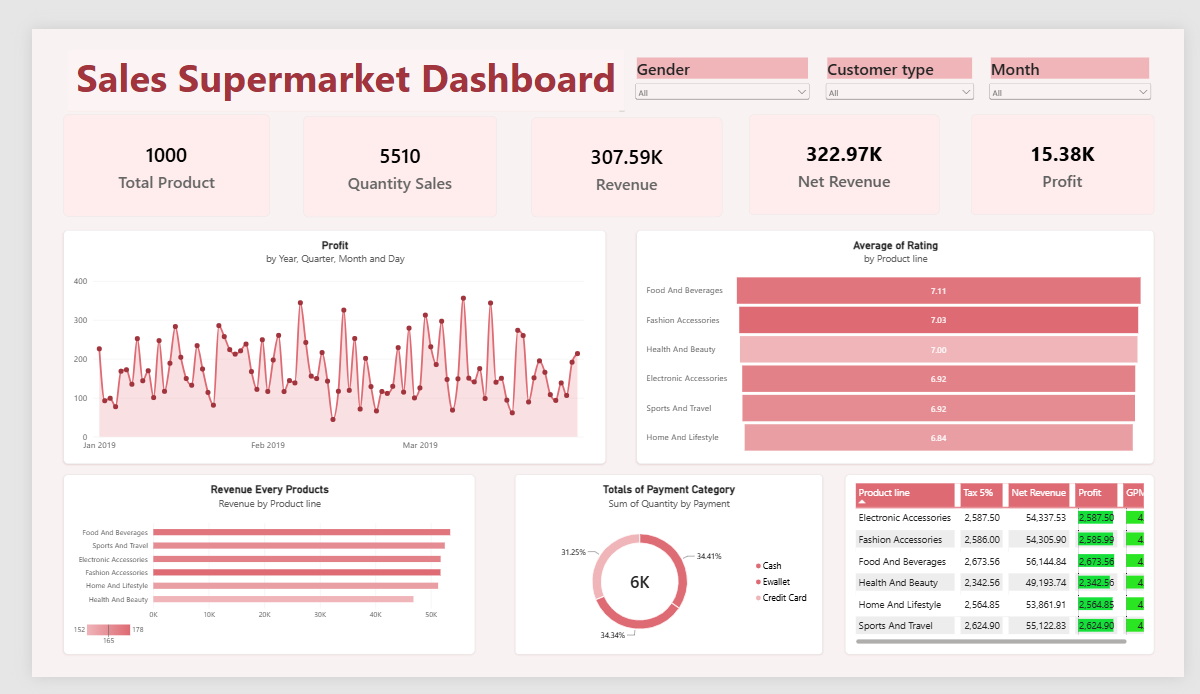

This screenshot's page, from the dashboard's own definition file:
{"tool":"powerbi","page":{"name":"Page 1","canvas":[1920,1080],"ordinal":0},"visuals":[{"type":"tableEx","fields":{"Values":["supermarket_sales.Product line","supermarket_sales.Tax 5%","supermarket_sales.Net Revenue","supermarket_sales.Profit","supermarket_sales.GPM %"]},"box":[1355,742.5,515,300],"z":0,"group":"g1"},{"type":"donutChart","title":"Totals of Payment Category","fields":{"Category":["supermarket_sales.Payment"],"Y":["Sum(supermarket_sales.Quantity)"]},"box":[805,742.5,512.5,300],"z":1000,"group":"g1"},{"type":"barChart","title":"Revenue Every Products","fields":{"Category":["supermarket_sales.Product line"],"Y":["supermarket_sales.Revenue"]},"box":[53,742.5,686,300],"z":2000,"group":"g1"},{"type":"areaChart","fields":{"Category":["supermarket_sales.Date.Variation.Date Hierarchy.Year","supermarket_sales.Date.Variation.Date Hierarchy.Quarter","supermarket_sales.Date.Variation.Date Hierarchy.Month","supermarket_sales.Date.Variation.Date Hierarchy.Day"],"Y":["supermarket_sales.Profit"]},"box":[52.5,335,904,390],"z":3000,"group":"g1"},{"type":"funnel","fields":{"Category":["supermarket_sales.Product line"],"Y":["Avg(supermarket_sales.Rating)"]},"box":[1007.5,335,862.5,390],"z":4000,"group":"g1"},{"type":"card","title":"Quantity Sales","fields":{"Values":["Sum(supermarket_sales.Quantity)"]},"box":[453,144.5,321.7,168.3],"z":6000,"group":"g1"},{"type":"card","fields":{"Values":["supermarket_sales.Revenue"]},"box":[833,146.5,318,166],"z":7000,"group":"g1"},{"type":"card","fields":{"Values":["supermarket_sales.Net Revenue"]},"box":[1195,142.5,317.5,167.5],"z":8000,"group":"g1"},{"type":"card","fields":{"Values":["supermarket_sales.Profit"]},"box":[1565,142.5,305,167.5],"z":9000,"group":"g1"},{"type":"slicer","fields":{"Values":["supermarket_sales.Gender"]},"box":[998.7,46.3,301.2,78.8],"z":10000,"group":"g1"},{"type":"slicer","fields":{"Values":["supermarket_sales.Customer type"]},"box":[1317.5,46.3,257.5,70],"z":11000,"group":"g1"},{"type":"slicer","fields":{"Values":["supermarket_sales.Date.Variation.Date Hierarchy.Month"]},"box":[1590,46.3,280,70],"z":12000,"group":"g1"},{"type":"textbox","title":"Sales Supermarket Dashboard","box":[58.7,34.7,927.5,102.5],"z":14000,"group":"g1"},{"type":"card","fields":{"Values":["CountNonNull(supermarket_sales.Product line)"]},"box":[53,142.5,344,170],"z":14001,"group":"g1"},{"type":"group","id":"g1","title":"Group 1","box":[52.5,34.7,1817.5,1007.8],"z":14002}]}

Visuals, with their boxes in screenshot pixels (x1, y1, x2, y2), scaled from the page's 1920x1080 canvas onto the 1200x694 screenshot:
tableEx - supermarket_sales.Product line x supermarket_sales.Tax 5%: {"x1": 847, "y1": 477, "x2": 1169, "y2": 670}
"Totals of Payment Category" donutChart: {"x1": 503, "y1": 477, "x2": 823, "y2": 670}
"Revenue Every Products" barChart: {"x1": 33, "y1": 477, "x2": 462, "y2": 670}
areaChart - supermarket_sales.Date.Variation.Date Hierarchy.Year x supermarket_sales.Date.Variation.Date Hierarchy.Quarter: {"x1": 33, "y1": 215, "x2": 598, "y2": 466}
funnel - supermarket_sales.Product line x Avg(supermarket_sales.Rating): {"x1": 630, "y1": 215, "x2": 1169, "y2": 466}
"Quantity Sales" card: {"x1": 283, "y1": 93, "x2": 484, "y2": 201}
card - supermarket_sales.Revenue: {"x1": 521, "y1": 94, "x2": 719, "y2": 201}
card - supermarket_sales.Net Revenue: {"x1": 747, "y1": 92, "x2": 945, "y2": 199}
card - supermarket_sales.Profit: {"x1": 978, "y1": 92, "x2": 1169, "y2": 199}
slicer - supermarket_sales.Gender: {"x1": 624, "y1": 30, "x2": 812, "y2": 80}
slicer - supermarket_sales.Customer type: {"x1": 823, "y1": 30, "x2": 984, "y2": 75}
slicer - supermarket_sales.Date.Variation.Date Hierarchy.Month: {"x1": 994, "y1": 30, "x2": 1169, "y2": 75}
"Sales Supermarket Dashboard" textbox: {"x1": 37, "y1": 22, "x2": 616, "y2": 88}
card - CountNonNull(supermarket_sales.Product line): {"x1": 33, "y1": 92, "x2": 248, "y2": 201}
"Group 1" group: {"x1": 33, "y1": 22, "x2": 1169, "y2": 670}
